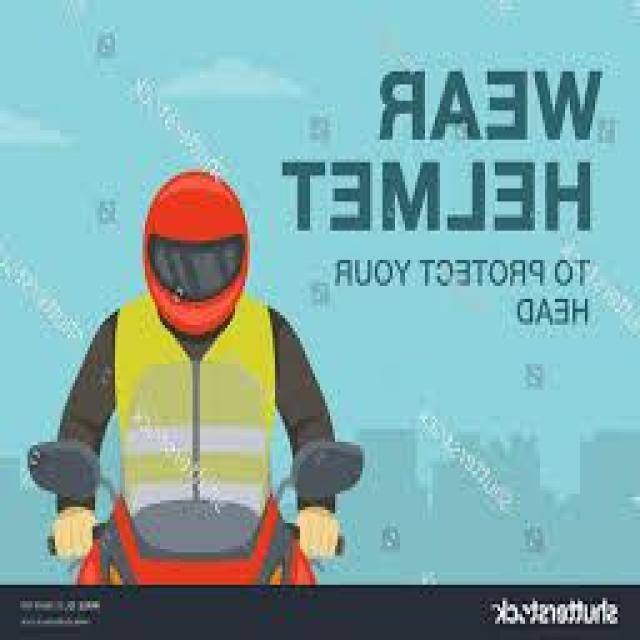Reflective-Jacket: (88, 289, 290, 585)
Safety-Helmet: (130, 162, 258, 266)
